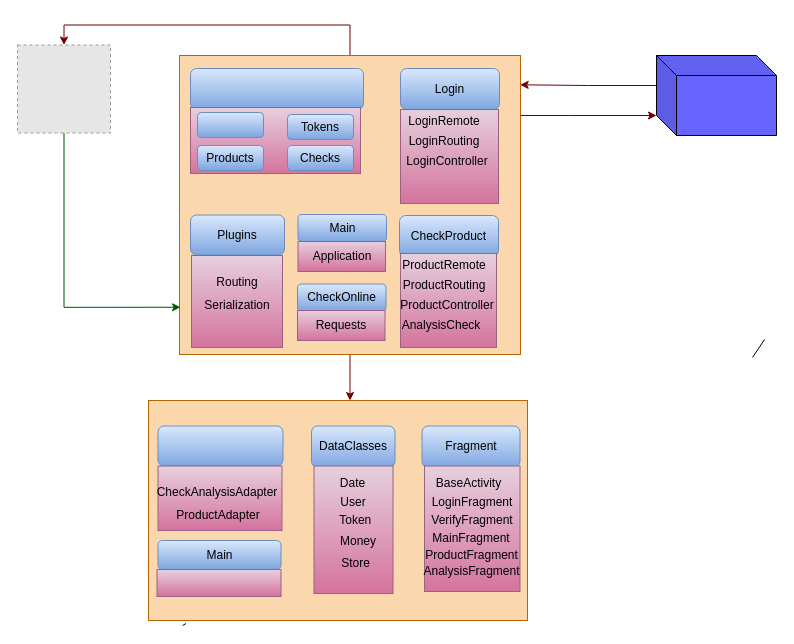
Some shapes in this 794 by 644 pixel diagram are drawn without their labels. Grey dashed boxes stand in for pictures. The centre of each missing label's shape, as x and y in pixels:
Adapter: point 220,445
Database: point 277,89
MainAPI: point 218,582
Users: point 230,125
Хранилище: point 716,95
